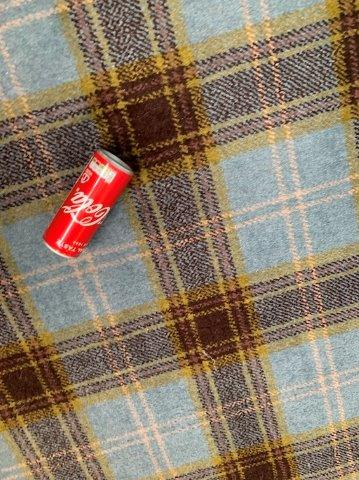kaleng: (44, 150, 131, 258)
